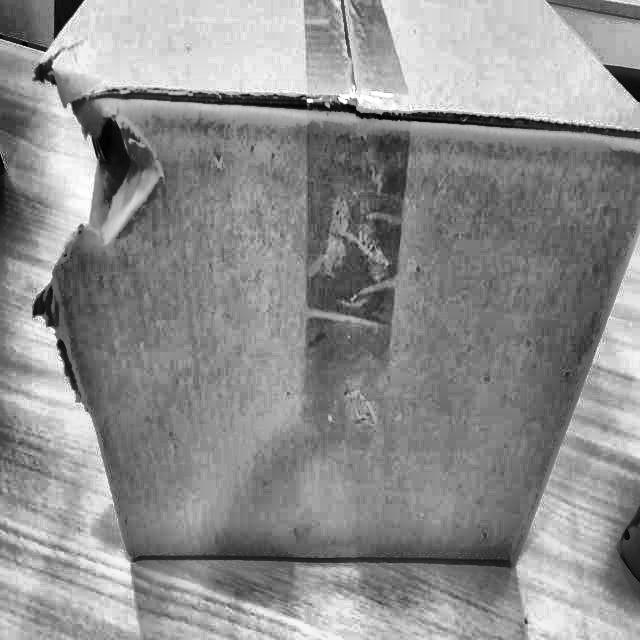box: (24, 0, 639, 578)
hole: (37, 52, 167, 320)
